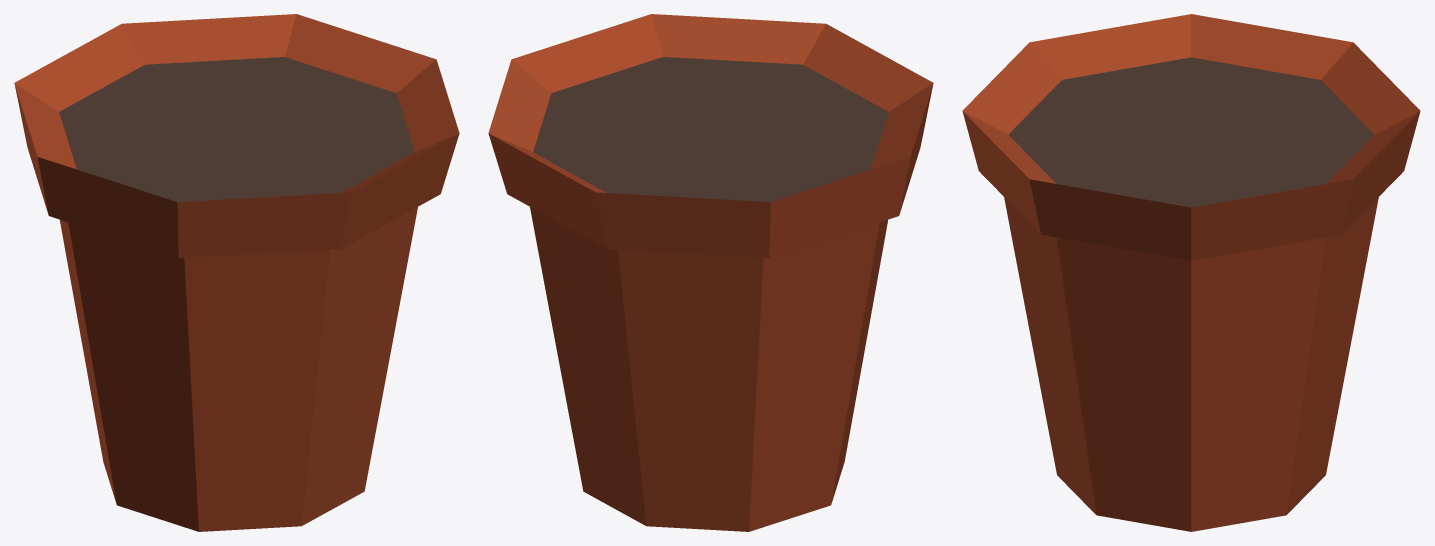
File: Matera.fbx
3 views of the same model, side by side, from view 1: azimuth 30°, elevation 25°; view 2: azimuth 150°, elevation 25°; view 3: azimuth 270°, elevation 25° (orthographic).
Visible parts, largest first — view 1: MateraConMata; view 2: MateraConMata; view 3: MateraConMata.
Part boxes in pixels (left/top/right/bottom): MateraConMata: left=14, top=14, right=459, bottom=531; MateraConMata: left=488, top=14, right=933, bottom=531; MateraConMata: left=962, top=14, right=1420, bottom=531.
Size of the model in its own units: 227 by 200 by 227.
